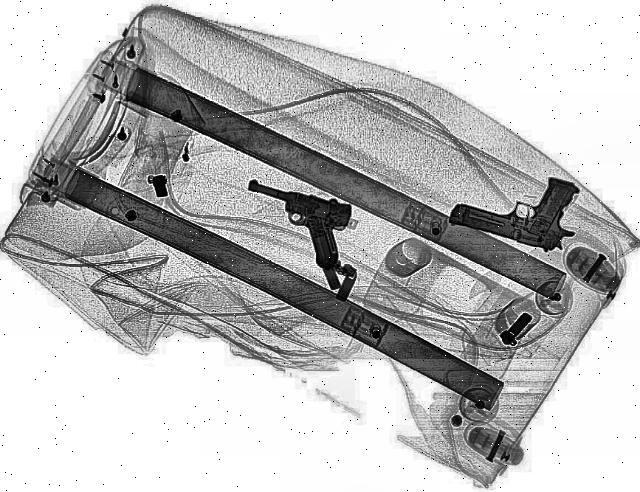Gun: (446, 156, 598, 254), (214, 174, 368, 270)
